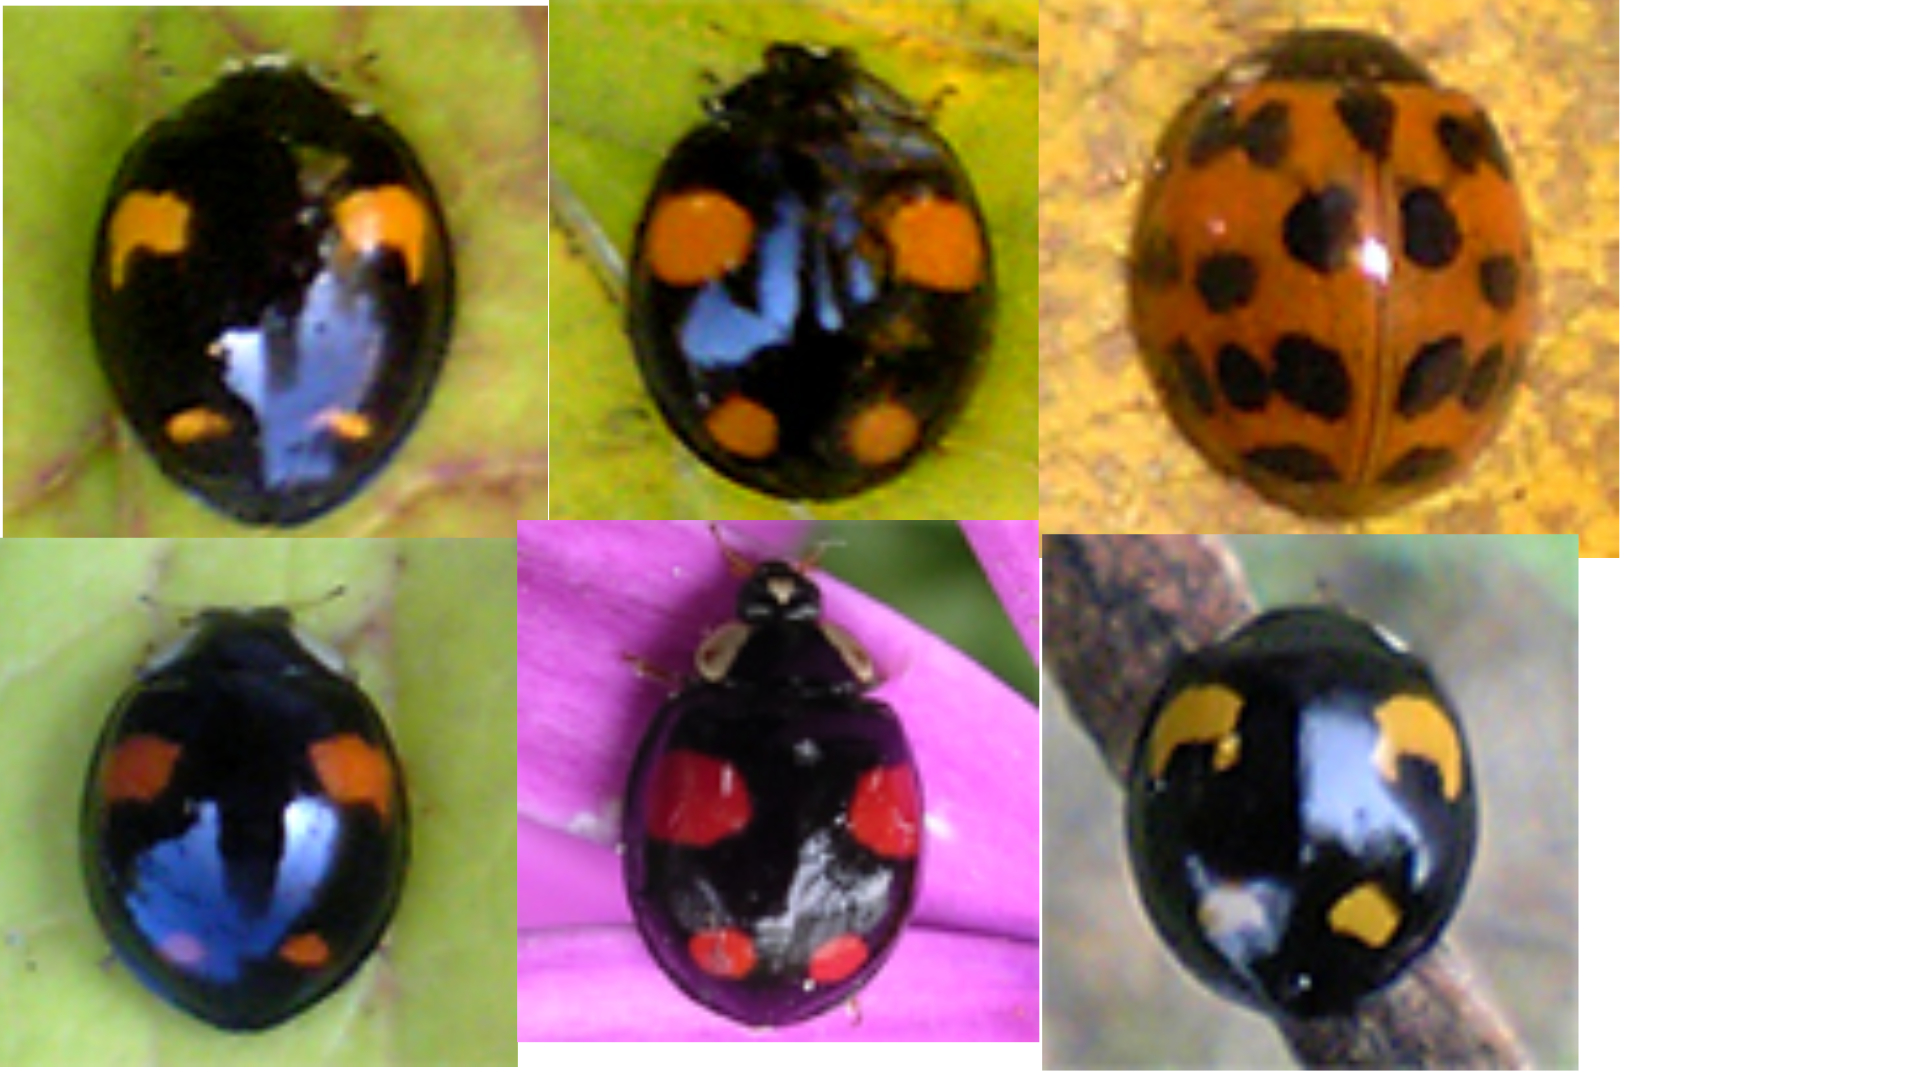red: (1127, 28, 1545, 524)
two_spots_mutant: (607, 29, 1011, 504), (84, 51, 469, 527), (615, 553, 931, 1023), (1118, 603, 1486, 1007), (86, 601, 407, 1027)
